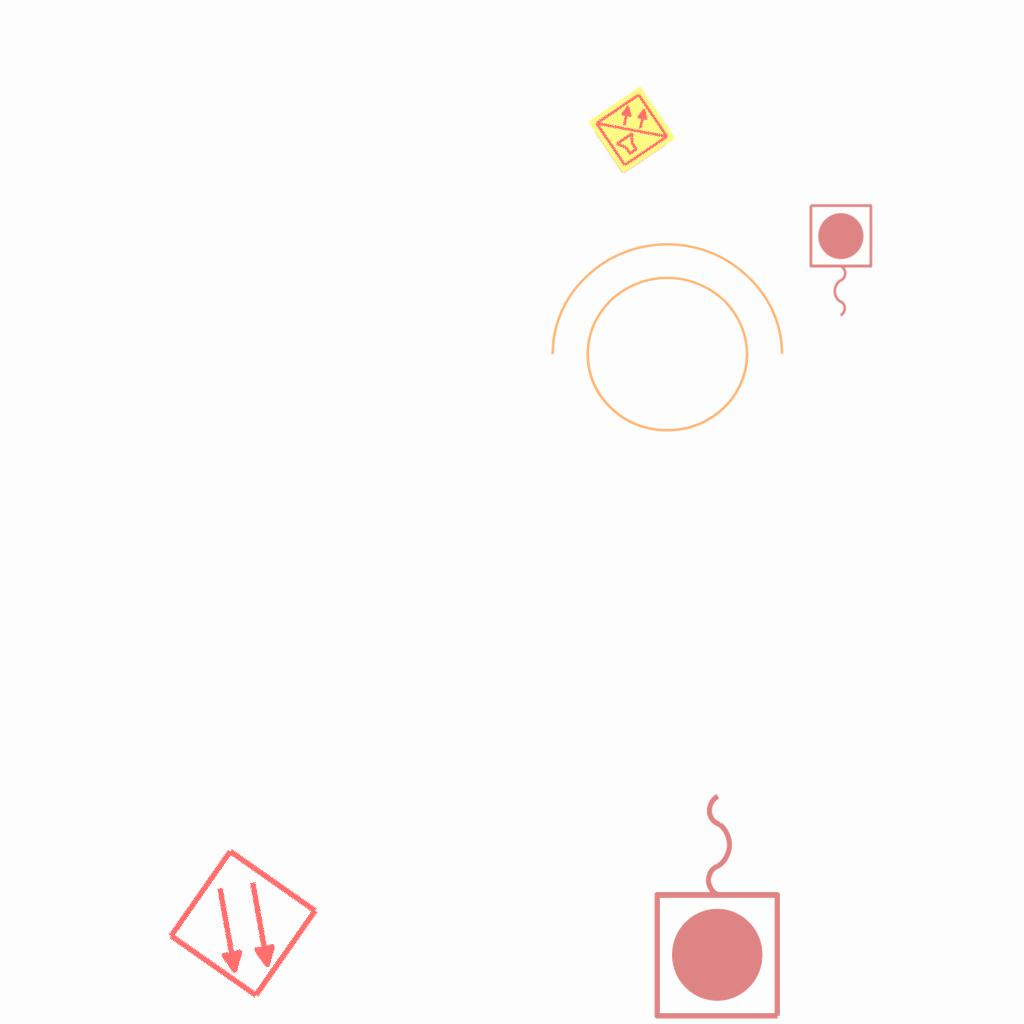OKW_Multisensormelder_(Kombination_optischer_Rauch-Kahlenmonoxid_Waerme-Melder): (586, 84, 678, 176)
RMO_Rauchmelder_optischer: (164, 844, 323, 1003)
Scheinwerfer_fuer_Alarmbeleuchtung: (529, 232, 793, 457)
Zugtaster: (647, 783, 791, 1024), (804, 200, 876, 322)
